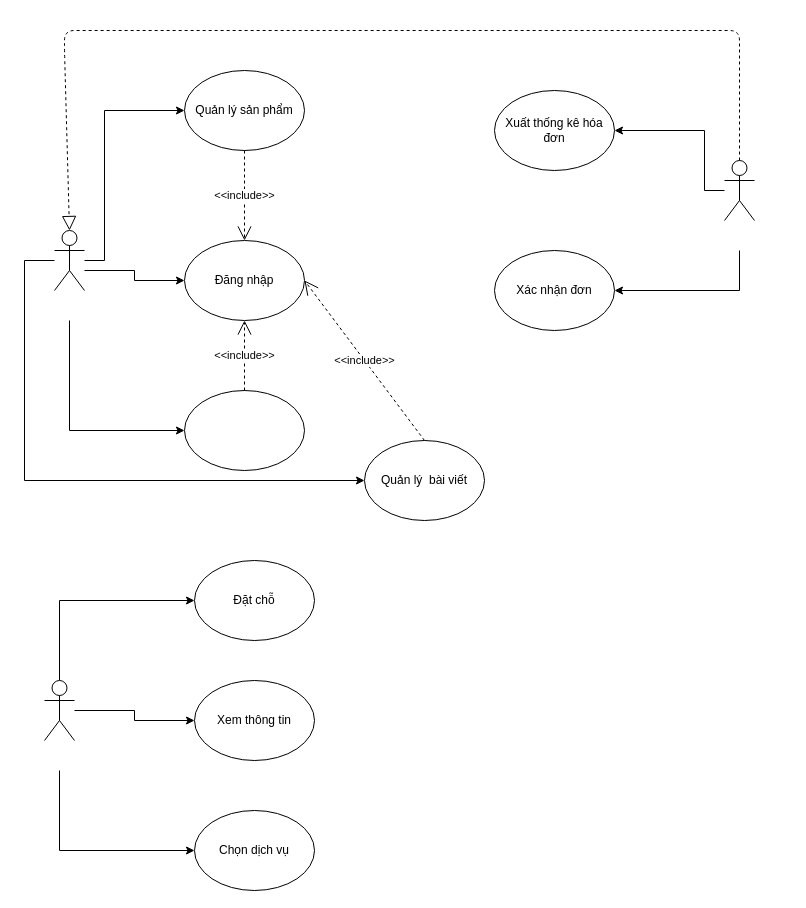
This 806x908 diagram has some shape labels left out. The centre of each missing label's shape, as x and y in pixels:
"Chủ doanh nghiệp" belongs at pixel 739 190.
"Khách hàng" belongs at pixel 59 710.
"Nhân viên" belongs at pixel 69 260.
"Quản lý nhân viên" belongs at pixel 244 430.
